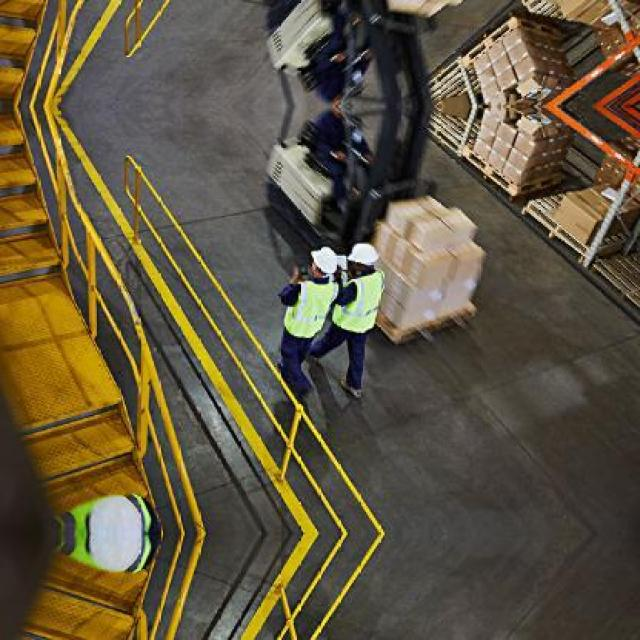Reflective-Jacket: (328, 271, 397, 344), (275, 278, 343, 347)
Safety-Helmet: (342, 234, 388, 273), (300, 242, 342, 284)
